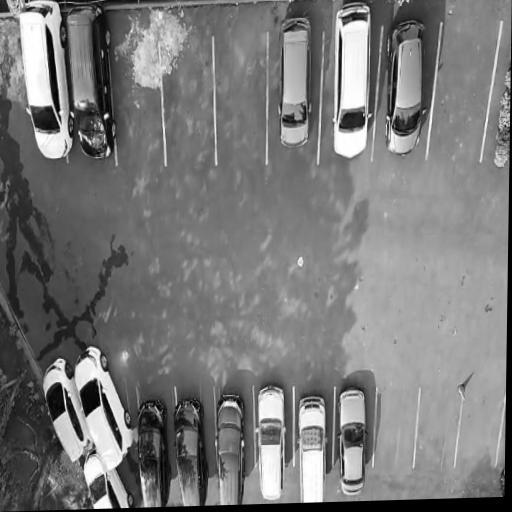Car: (63, 336, 138, 475), (15, 0, 75, 164), (61, 5, 118, 169), (327, 0, 381, 168), (379, 11, 434, 170), (35, 349, 95, 470), (270, 9, 317, 162), (169, 392, 213, 507), (211, 388, 253, 506), (251, 381, 290, 504), (335, 380, 370, 498), (135, 394, 170, 508), (294, 397, 331, 503), (77, 445, 136, 509)
Space Available: (428, 21, 501, 164), (159, 39, 215, 168), (108, 44, 166, 167), (213, 37, 267, 168), (412, 391, 465, 471), (373, 389, 419, 472), (456, 392, 506, 468)
